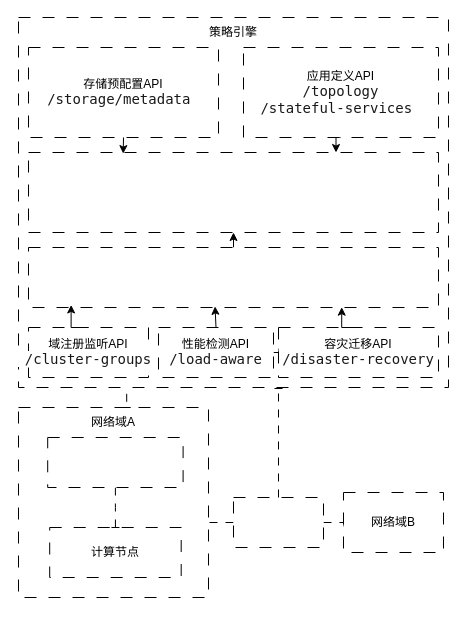
Some shapes in this 466 by 635 pixel diagram are drawn without their labels. Each missing label, with the centre of its shape:
"域代理节点" goes at (x=115, y=462).
"弹性扩缩容API /scaling/policies" goes at (x=233, y=277).
"跨域分发策略API /propagation/metadata /resource-selectors" goes at (x=233, y=192).
"跨域路由器" goes at (x=278, y=522).
